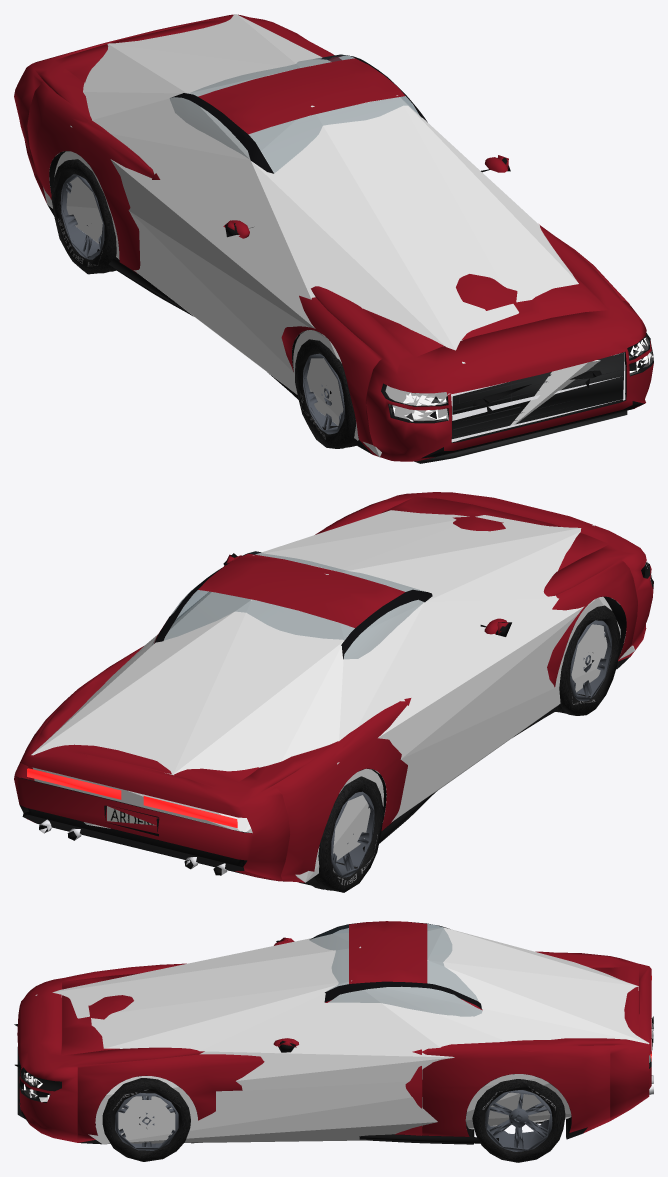
File: arden_bruiser_lod2.glb
3 views of the same model, one above another, from view 1: azimuth 30°, elevation 25°; view 2: azimuth 150°, elevation 25°; view 3: azimuth 270°, elevation 25° (orthographic). The views are drawn at different scales.
Parts seen in each view (by area): view 1: col_body, body, trim, glass, wheel_RR, wheel_FR, lights_front, underbody; view 2: col_body, body, glass, wheel_RR, wheel_FR, lights_rear, underbody, trim, plate_rear; view 3: col_body, body, glass, wheel_RL, wheel_FL, trim.
Boxes of the visible parts, bbox=[...] form: col_body: bbox=[43, 14, 653, 457]; body: bbox=[14, 14, 653, 461]; trim: bbox=[95, 155, 627, 463]; glass: bbox=[170, 55, 419, 172]; wheel_RR: bbox=[51, 159, 119, 274]; wheel_FR: bbox=[295, 339, 357, 448]; lights_front: bbox=[389, 337, 652, 421]; underbody: bbox=[49, 151, 634, 460]; col_body: bbox=[31, 510, 635, 882]; body: bbox=[14, 492, 653, 882]; glass: bbox=[152, 552, 424, 658]; wheel_RR: bbox=[299, 776, 383, 892]; wheel_FR: bbox=[555, 605, 619, 715]; lights_rear: bbox=[27, 768, 237, 828]; underbody: bbox=[34, 596, 626, 882]; trim: bbox=[223, 553, 511, 855]; plate_rear: bbox=[104, 805, 159, 836]; col_body: bbox=[35, 927, 650, 1144]; body: bbox=[14, 921, 651, 1144]; glass: bbox=[309, 924, 482, 1016]; wheel_RL: bbox=[472, 1079, 565, 1162]; wheel_FL: bbox=[102, 1078, 190, 1161]; trim: bbox=[17, 937, 498, 1143].
Bounding box in the file's own units: 1.92 × 1.39 × 4.9.
12 materials, 3 textured.
